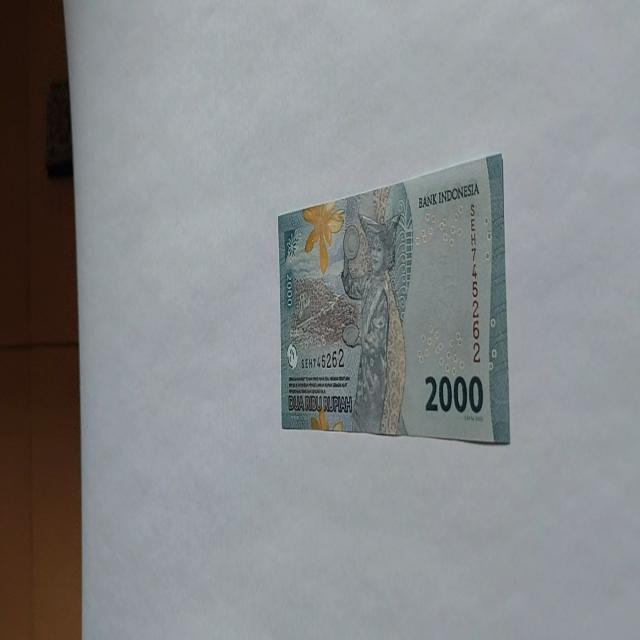dua ribu rupiah: (277, 151, 510, 445), (338, 188, 412, 434)
